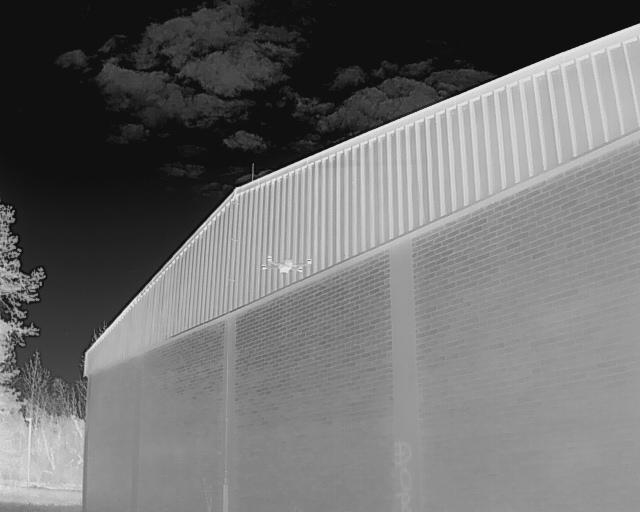drone: (254, 244, 317, 289)
